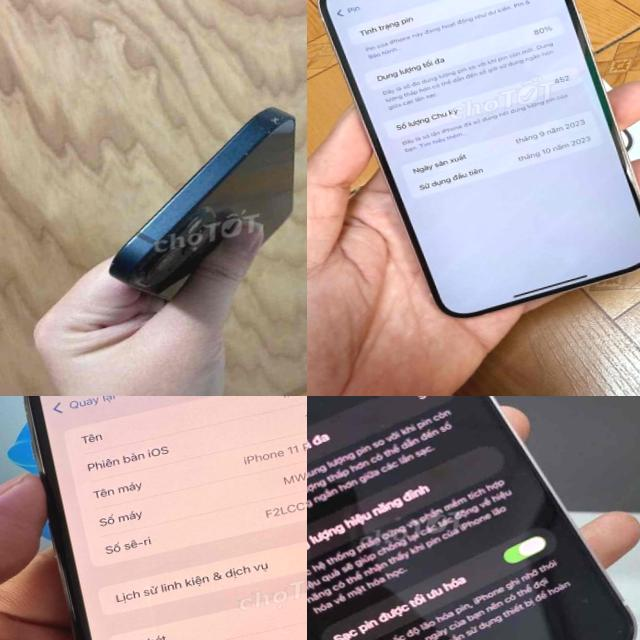gen_11: (25, 396, 307, 640)
gen_12_13: (307, 396, 640, 640), (76, 102, 307, 305)
gen_15: (307, 0, 640, 347)
